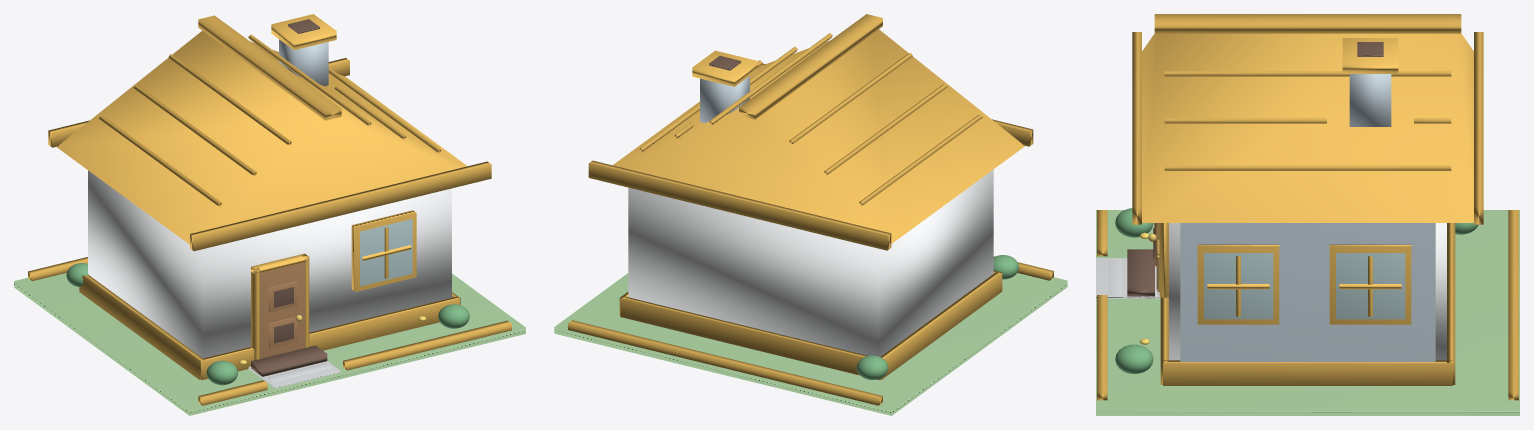
Rendered from casa_detallada_orange.glb.
3 views of the same model, side by side, from view 1: azimuth 30°, elevation 25°; view 2: azimuth 150°, elevation 25°; view 3: azimuth 270°, elevation 25° (orthographic). The views are drawn at different scales.
Parts seen in each view (by area): view 1: Casa_Techo_Rojo_Detallado, Casa_Paredes_Suaves, Casa_Grama_Base_Redondeada, Casa_Techo_Fascia_Frontal, Casa_Zocalo_Frontal_Rojo, Casa_Techo_Cumbrera_Roja, Casa_Zocalo_Izquierdo_Rojo, Ventana_Frontal_Principal_Cristal, Puerta_Cuerpo_Madera, Casa_Borde_Base_Frontal_Derecho, Ventana_Frontal_Principal_Marco_Azul, Casa_Chimenea_Cuerpo (+17 smaller); view 2: Casa_Techo_Rojo_Detallado, Casa_Paredes_Suaves, Casa_Grama_Base_Redondeada, Casa_Techo_Fascia_Trasero, Casa_Zocalo_Trasero_Rojo, Casa_Borde_Base_Trasero, Casa_Techo_Cumbrera_Roja, Casa_Zocalo_Izquierdo_Rojo, Casa_Chimenea_Cuerpo, Casa_Chimenea_Tapa_Roja, Casa_Techo_Linea_Teja_Der_1, Casa_Techo_Linea_Teja_Izq_2 (+5 smaller); view 3: Casa_Techo_Rojo_Detallado, Casa_Grama_Base_Redondeada, Casa_Pared_Lateral_Azulada, Casa_Zocalo_Derecho_Rojo, Casa_Techo_Cumbrera_Roja, Ventana_Lateral_Frontal_Cristal, Ventana_Lateral_Trasera_Cristal, Casa_Paredes_Suaves, Casa_Chimenea_Cuerpo, Ventana_Lateral_Frontal_Marco_Azul, Ventana_Lateral_Trasera_Marco_Azul, Casa_Borde_Base_Trasero (+17 smaller).
Part boxes in pixels (bbox=[...]): Casa_Techo_Rojo_Detallado: bbox=[57, 30, 467, 244]; Casa_Paredes_Suaves: bbox=[88, 170, 451, 358]; Casa_Grama_Base_Redondeada: bbox=[14, 273, 525, 415]; Casa_Techo_Fascia_Frontal: bbox=[190, 161, 491, 251]; Casa_Zocalo_Frontal_Rojo: bbox=[200, 296, 459, 380]; Casa_Techo_Cumbrera_Roja: bbox=[198, 15, 341, 120]; Casa_Zocalo_Izquierdo_Rojo: bbox=[79, 275, 204, 379]; Ventana_Frontal_Principal_Cristal: bbox=[360, 219, 412, 286]; Puerta_Cuerpo_Madera: bbox=[260, 262, 305, 358]; Casa_Borde_Base_Frontal_Derecho: bbox=[343, 320, 511, 370]; Ventana_Frontal_Principal_Marco_Azul: bbox=[351, 210, 416, 291]; Casa_Chimenea_Cuerpo: bbox=[279, 39, 328, 86]; Casa_Techo_Rojo_Detallado: bbox=[613, 29, 1024, 243]; Casa_Paredes_Suaves: bbox=[628, 169, 993, 356]; Casa_Grama_Base_Redondeada: bbox=[554, 273, 1067, 415]; Casa_Techo_Fascia_Trasero: bbox=[588, 160, 891, 250]; Casa_Zocalo_Trasero_Rojo: bbox=[620, 296, 879, 379]; Casa_Borde_Base_Trasero: bbox=[568, 320, 882, 405]; Casa_Techo_Cumbrera_Roja: bbox=[739, 14, 882, 119]; Casa_Zocalo_Izquierdo_Rojo: bbox=[880, 272, 1002, 379]; Casa_Chimenea_Cuerpo: bbox=[700, 76, 749, 122]; Casa_Chimenea_Tapa_Roja: bbox=[692, 50, 757, 86]; Casa_Techo_Linea_Teja_Der_1: bbox=[709, 33, 832, 124]; Casa_Techo_Linea_Teja_Izq_2: bbox=[824, 83, 947, 174]; Casa_Techo_Rojo_Detallado: bbox=[1142, 33, 1473, 222]; Casa_Grama_Base_Redondeada: bbox=[1096, 210, 1519, 415]; Casa_Pared_Lateral_Azulada: bbox=[1180, 223, 1435, 361]; Casa_Zocalo_Derecho_Rojo: bbox=[1163, 360, 1452, 385]; Casa_Techo_Cumbrera_Roja: bbox=[1154, 14, 1461, 33]; Ventana_Lateral_Frontal_Cristal: bbox=[1204, 253, 1273, 319]; Ventana_Lateral_Trasera_Cristal: bbox=[1336, 253, 1405, 319]; Casa_Paredes_Suaves: bbox=[1169, 223, 1446, 360]; Casa_Chimenea_Cuerpo: bbox=[1349, 74, 1391, 126]; Ventana_Lateral_Frontal_Marco_Azul: bbox=[1197, 244, 1279, 324]; Ventana_Lateral_Trasera_Marco_Azul: bbox=[1329, 244, 1411, 324]; Casa_Borde_Base_Trasero: bbox=[1508, 210, 1518, 400].
Bounding box in the file's own units: 1.35 × 0.9689 × 1.22.
